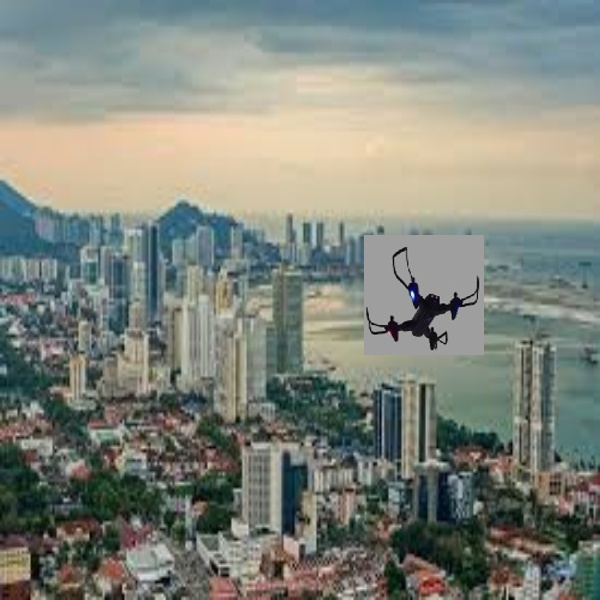drone: (363, 236, 486, 361)
